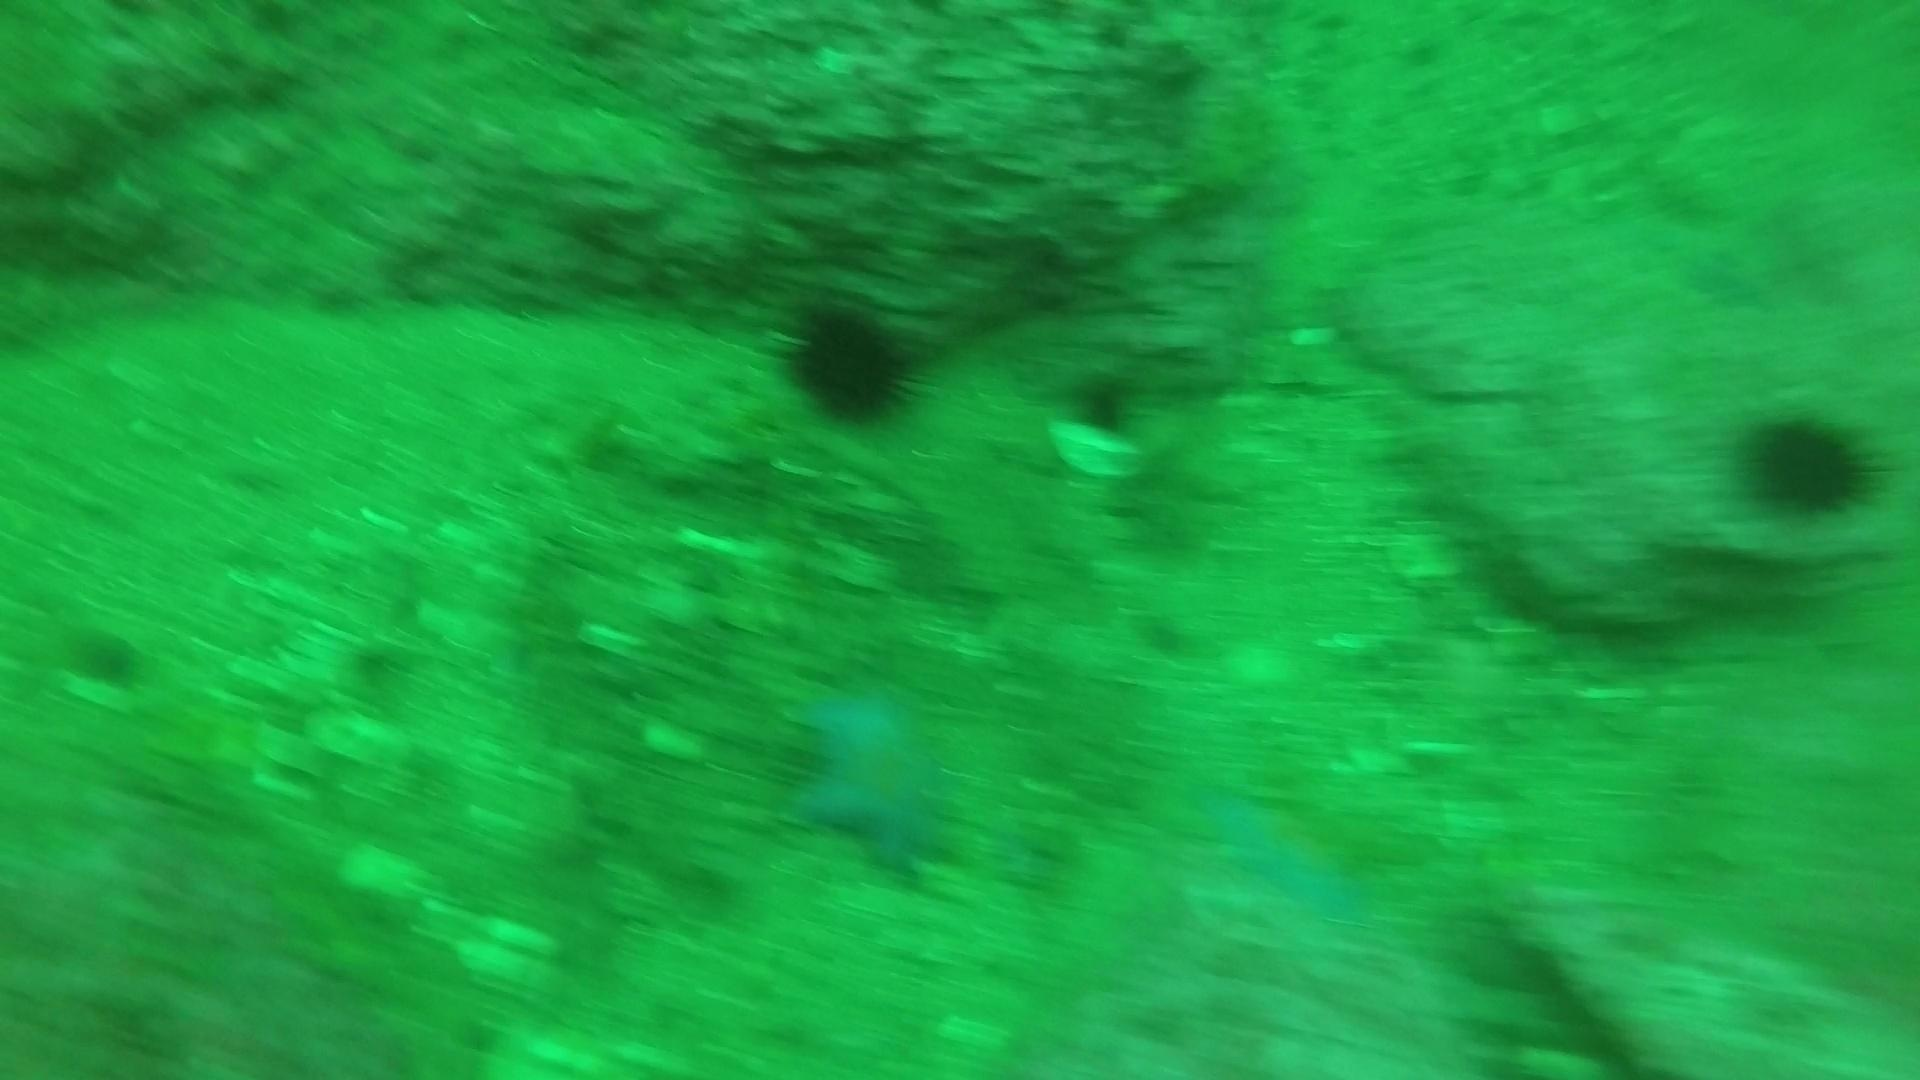echinus: (775, 293, 927, 430), (1731, 402, 1884, 525)
starfish: (775, 673, 971, 884), (1185, 770, 1389, 931)
